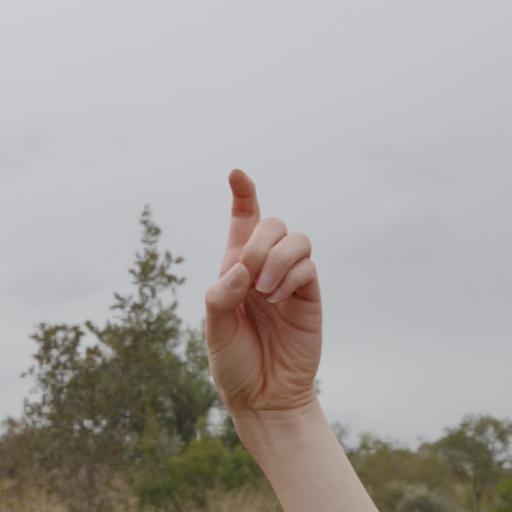X: (188, 156, 333, 512)
